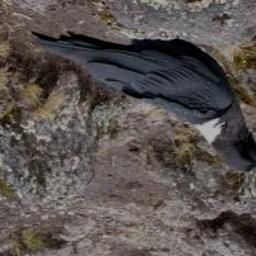Crow: (26, 28, 256, 174)
